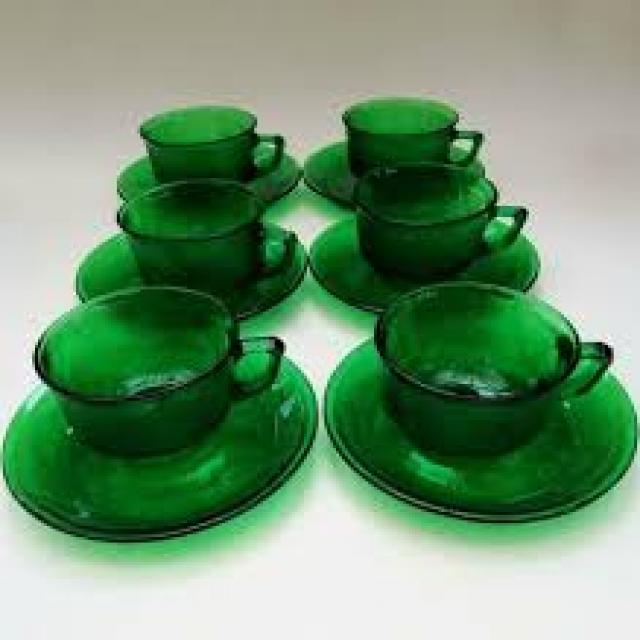Glass-Non-Biodegradable but Recyclable-: (37, 289, 287, 460)
